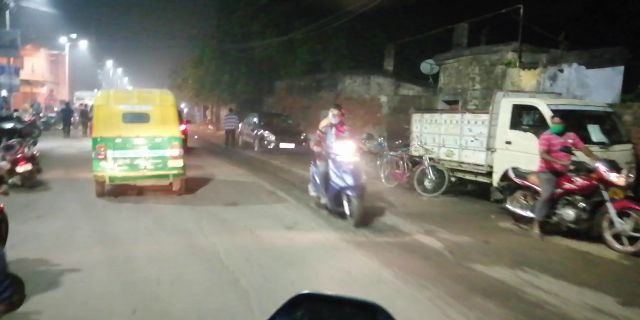Autorickshaw: (89, 85, 193, 201)
Motorbike: (512, 115, 633, 251), (298, 99, 372, 228)
